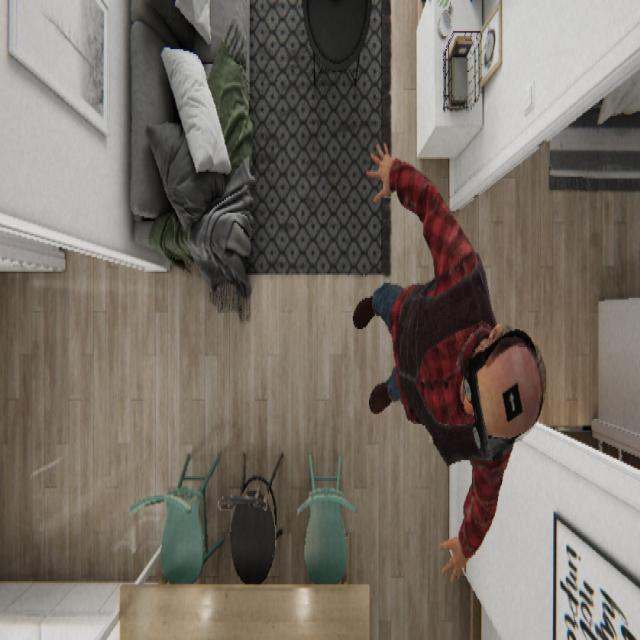Human: (351, 139, 547, 584)
UnityLogo: (501, 378, 523, 422)
